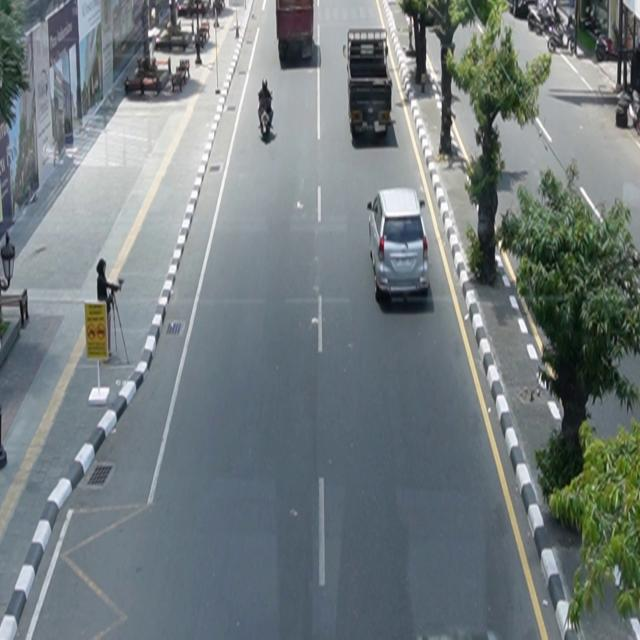car: (368, 188, 431, 304)
truck: (344, 28, 393, 140)
